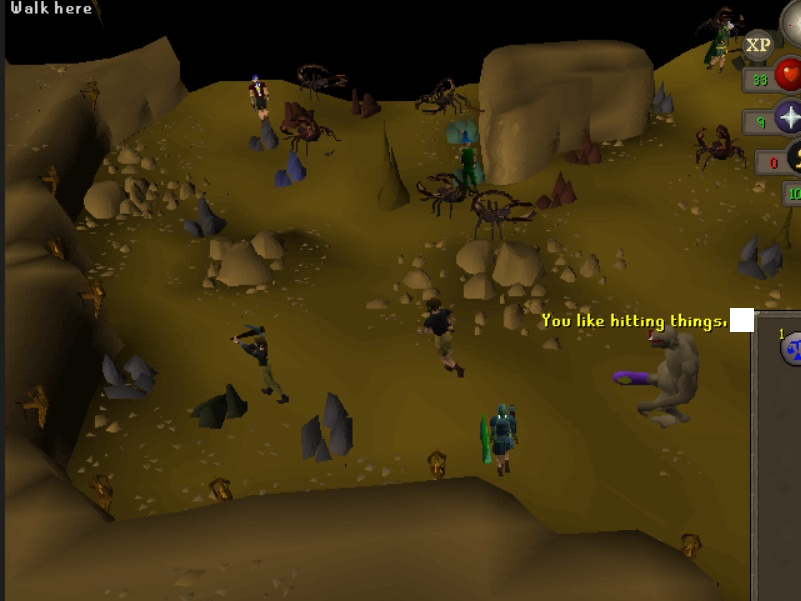adamant: (444, 113, 480, 146), (449, 152, 485, 185)
coal: (184, 378, 253, 431)
iron: (559, 130, 609, 168), (536, 170, 586, 208), (279, 96, 319, 131), (348, 88, 384, 119)
mithril: (270, 148, 312, 190)
